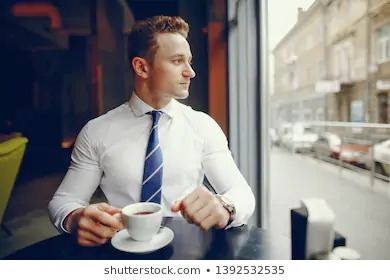F_shirt: (50, 90, 254, 236)
F_tie: (137, 106, 164, 211)
